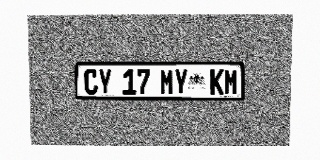1: (122, 69, 136, 95)
7: (137, 69, 150, 95)
C: (84, 69, 98, 95)
K: (210, 69, 224, 95)
M: (160, 69, 174, 95), (224, 69, 238, 95)
Y: (98, 69, 112, 95), (174, 69, 188, 95)
